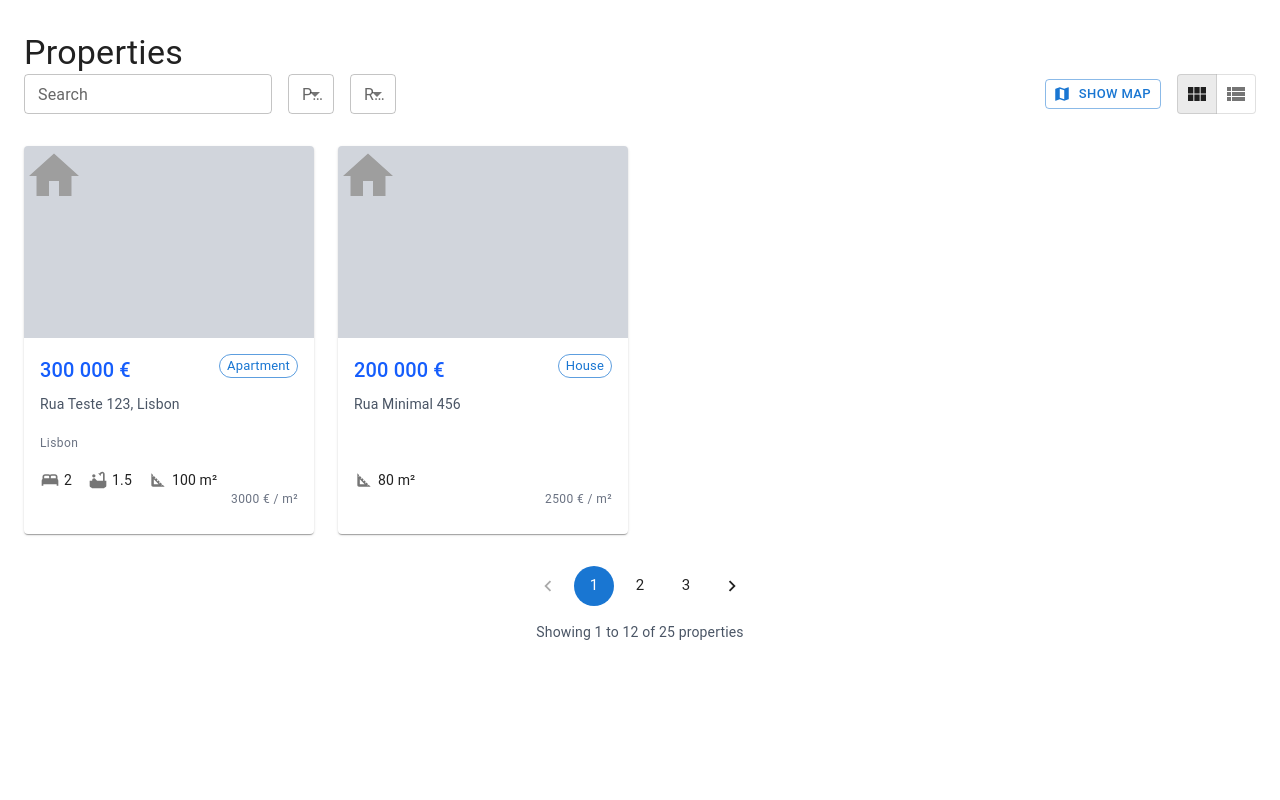
Scenario: PropertiesPage › calculates pagination correctly for different pages
The width and height of the screenshot is (1280, 800).
Check: the navigation bar is shown, box 525,566 -> 755,606
Click the button "2".
click(640, 586)  # box 620,566 -> 660,606
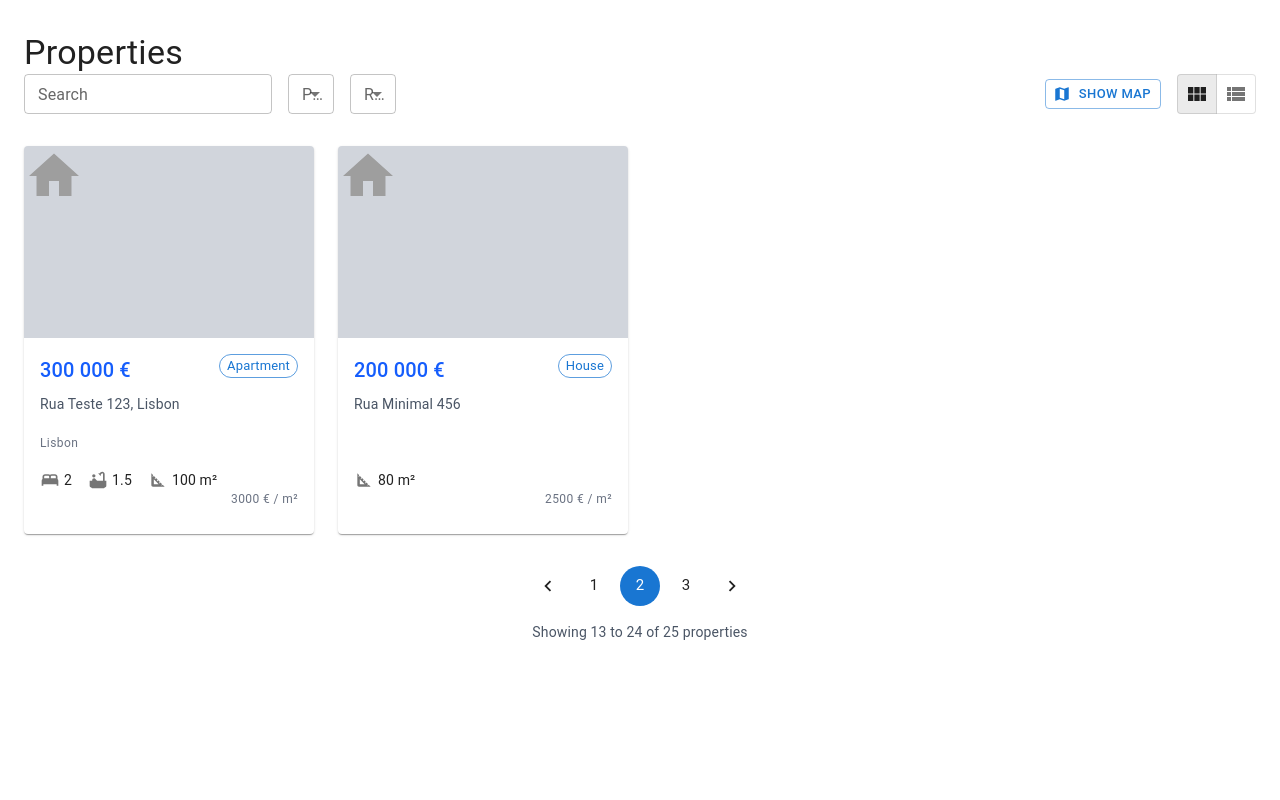
Check: the text "Showing 13 to 24 of 25 properties" is shown, box 532,622 -> 748,642
